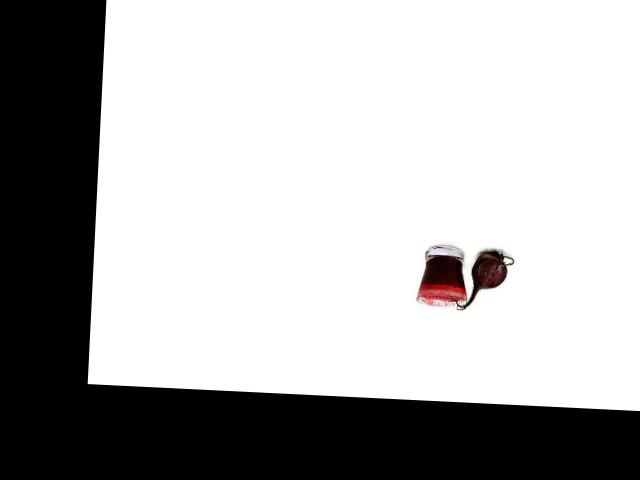beet: (448, 247, 513, 312)
